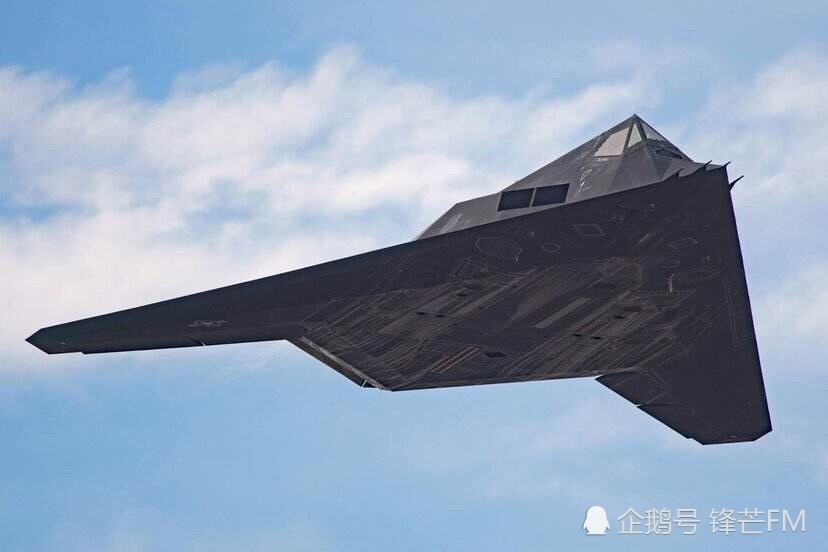airplane: (18, 103, 780, 451)
